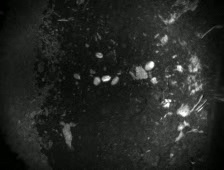corn: (143, 59, 156, 72), (93, 49, 106, 60), (91, 75, 102, 87), (100, 72, 112, 83), (108, 75, 120, 86), (71, 69, 82, 80)
